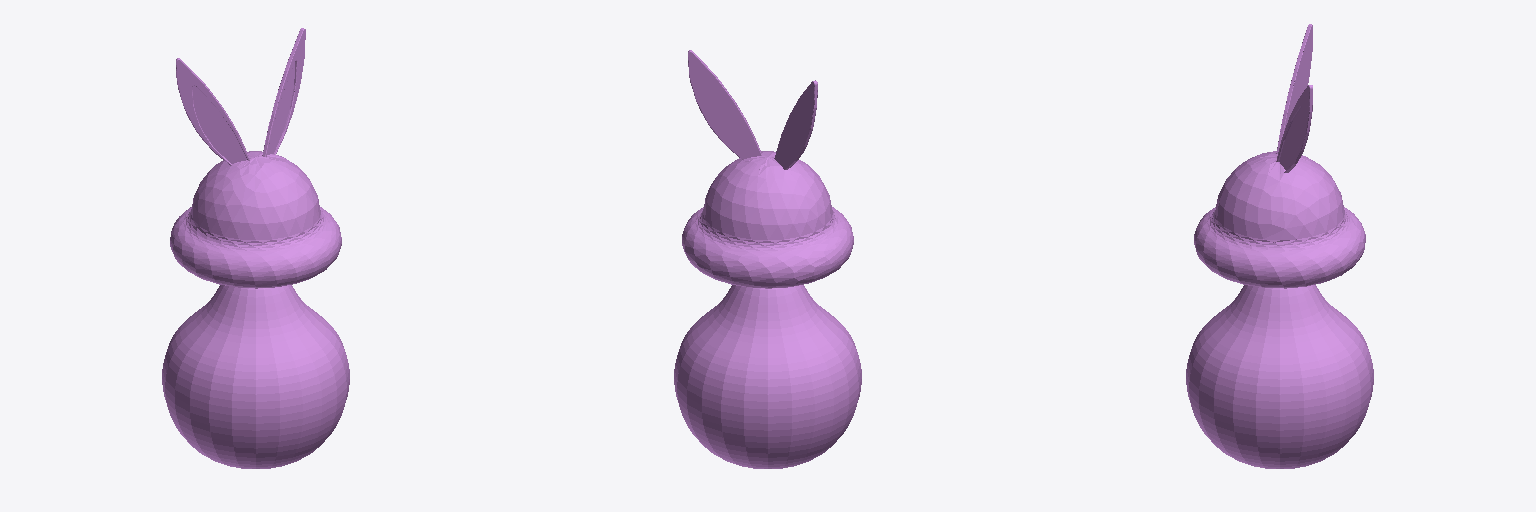
File: Bunny_place_holder_model.obj
3 views of the same model, side by side, from view 1: azimuth 30°, elevation 25°; view 2: azimuth 150°, elevation 25°; view 3: azimuth 270°, elevation 25° (orthographic).
Visible parts, largest first — view 1: Bunny; view 2: Bunny; view 3: Bunny.
Boxes of the visible parts, x1,y1,x2,y2 form: Bunny: [162, 28, 349, 468]; Bunny: [674, 50, 861, 468]; Bunny: [1186, 24, 1373, 468].
Bounding box in the file's own units: 62.05 × 147 × 62.05.